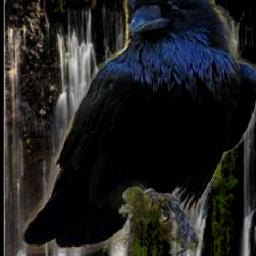Crow: (22, 0, 256, 254)
